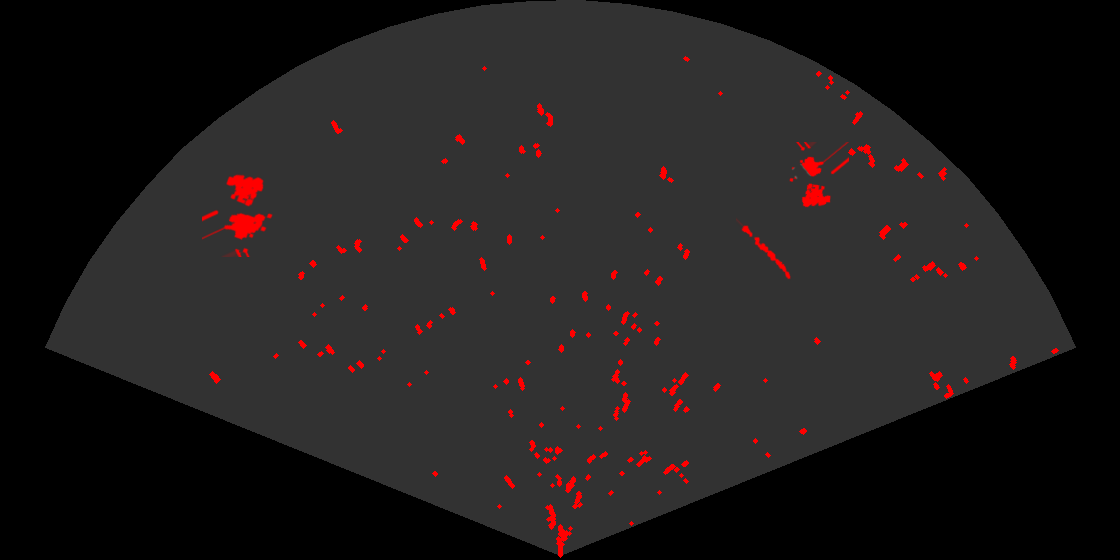cage: (202, 173, 274, 257), (788, 142, 849, 209)
chain: (736, 216, 792, 281)
